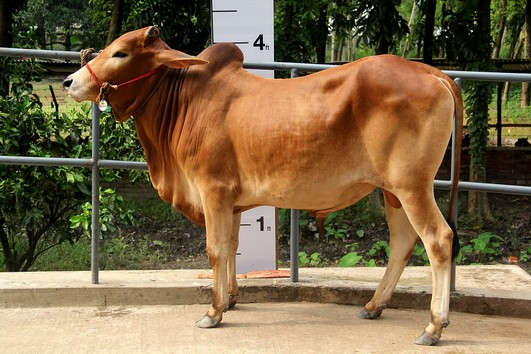cow: (55, 18, 467, 345)
